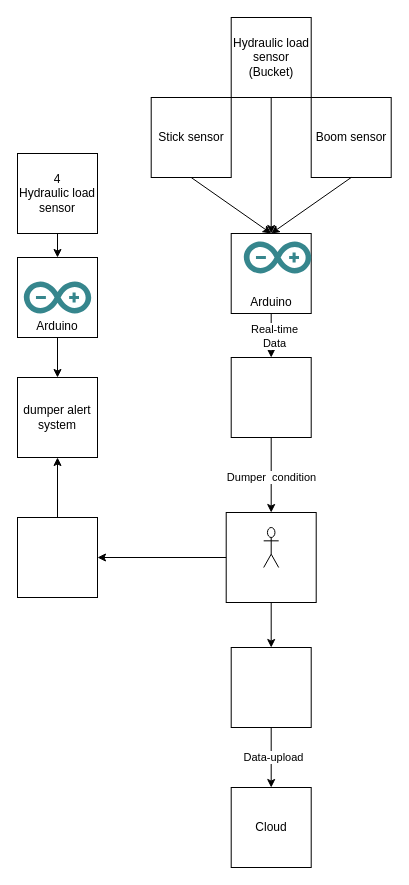
Some shapes in this 409 by 885 pixel diagram are drawn without their labels. The centre of each missing label's shape, as x and y in pixels:
N-BIOT: pixel 57 557
Offline Stored data: pixel 270 687
Shovel Interface Alert system: pixel 270 397
Shovel Operator: pixel 271 547
